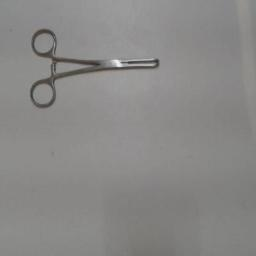Allis Tissue Forceps: (27, 21, 169, 113)
